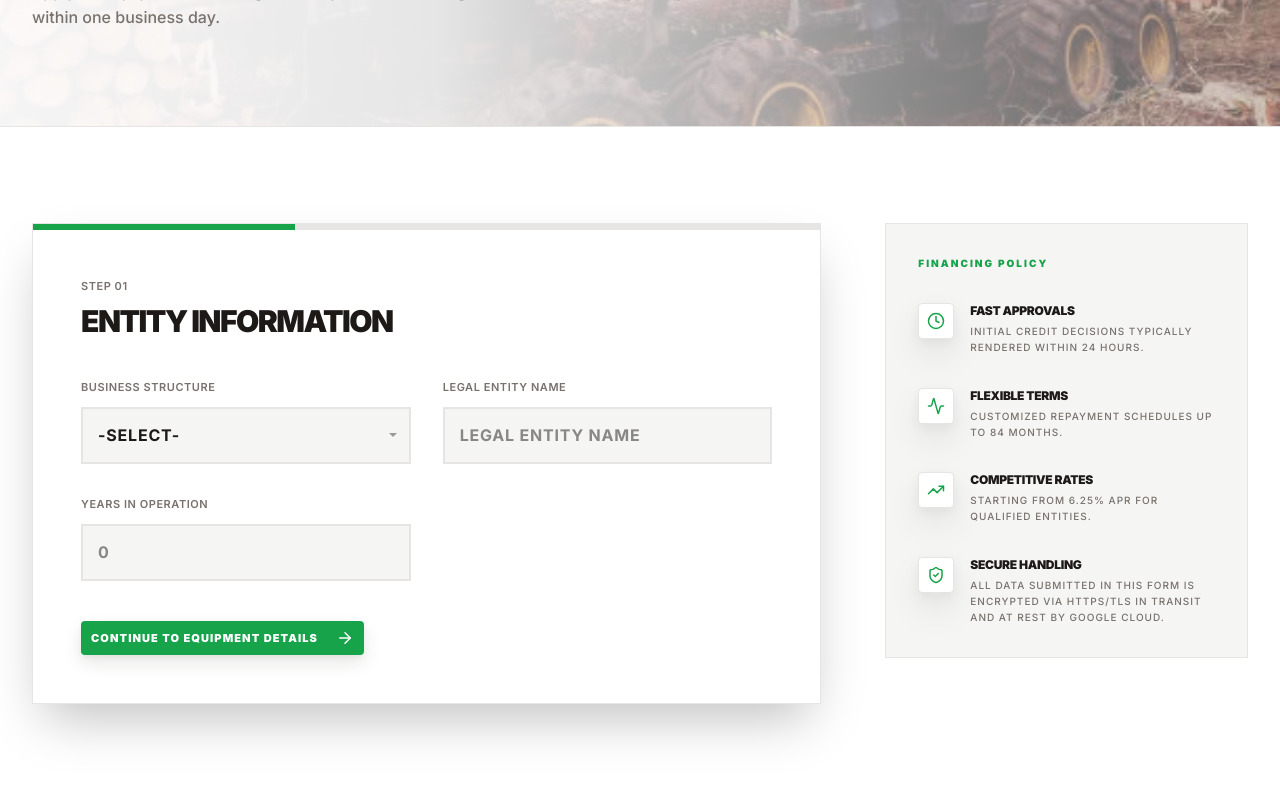
Test: Financing component › progresses through the financing wizard steps
The image size is (1280, 800).
(page scrolled)
Click the button "Continue to Equipment Details": (223, 638) [81,621,364,655]
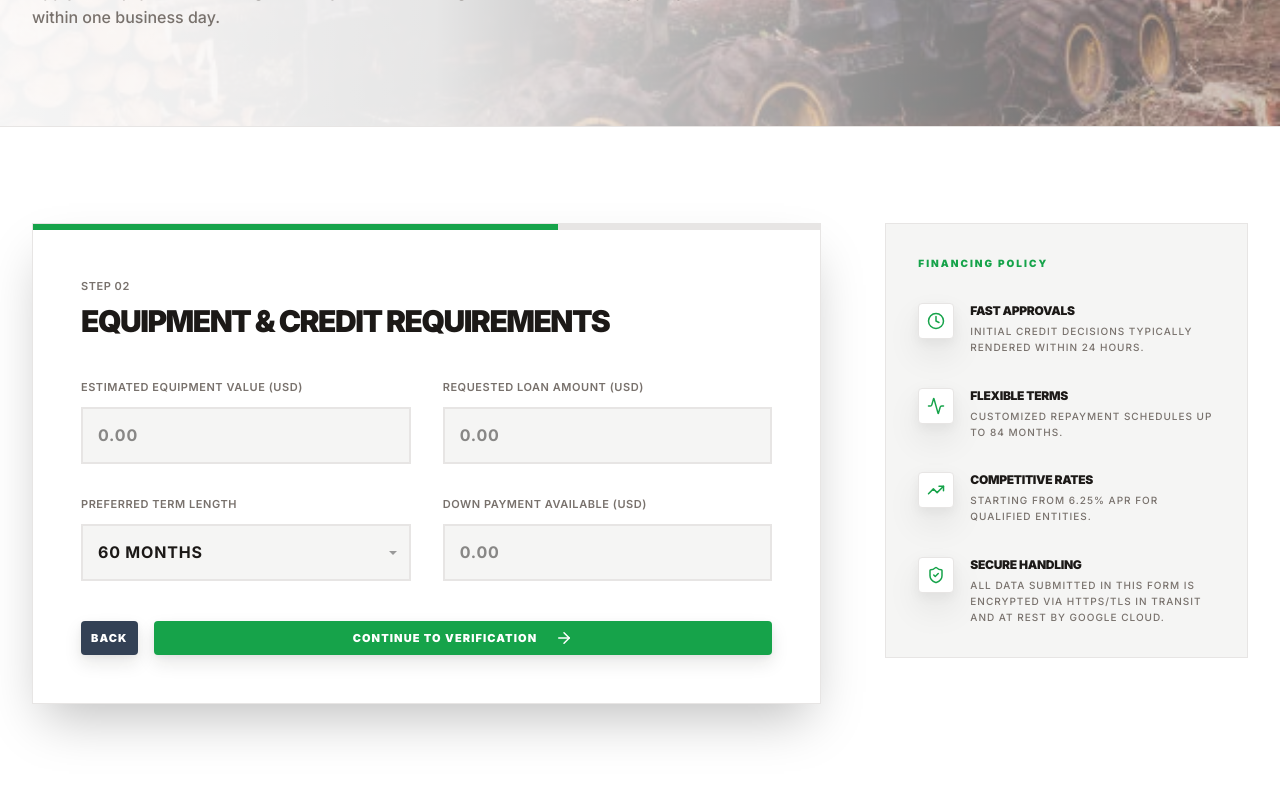
Check: the heading "Equipment & Credit Requirements" is shown, box [81,302,609,338]
Click the button "Continue to Verification": (463, 638) [154,621,772,655]
(page scrolled)
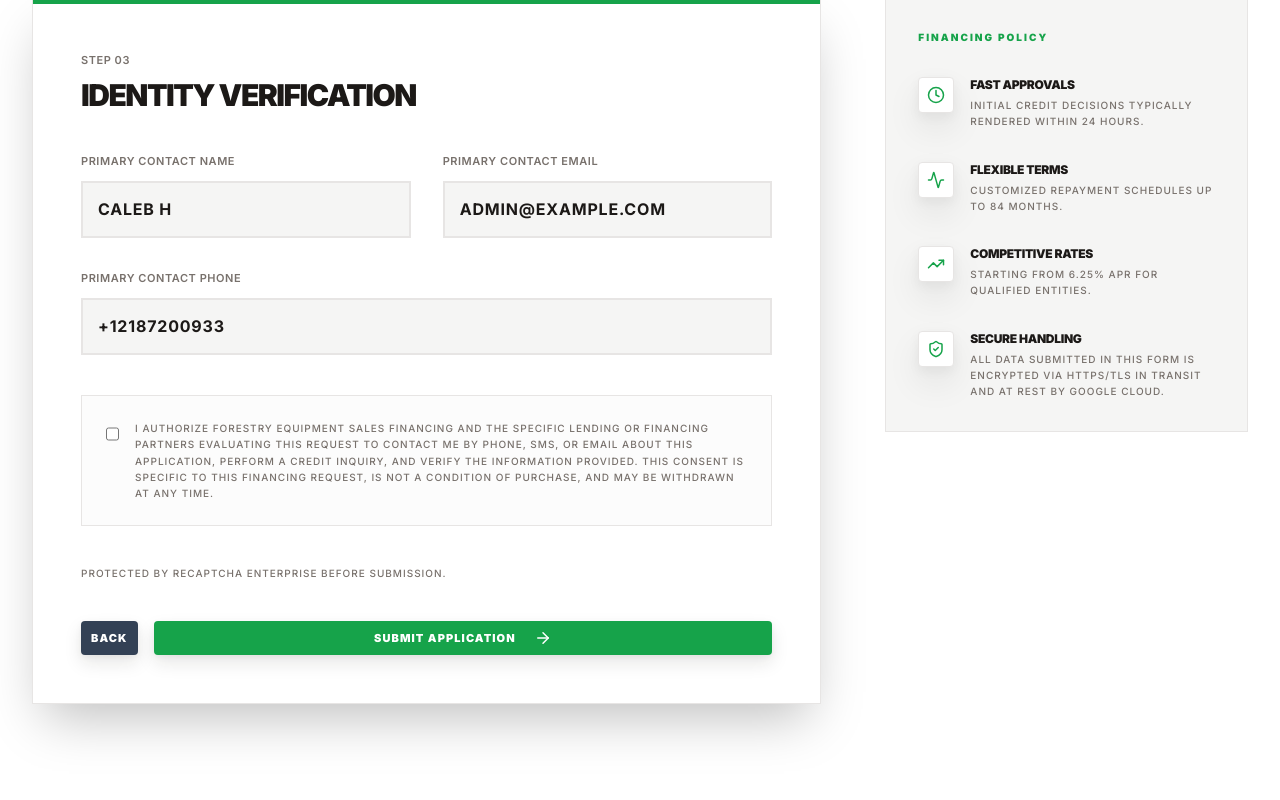
Check: the heading "Identity Verification" is shown, box [81,76,416,112]
Check: the button "Submit Application" is shown, box [154,621,772,655]
